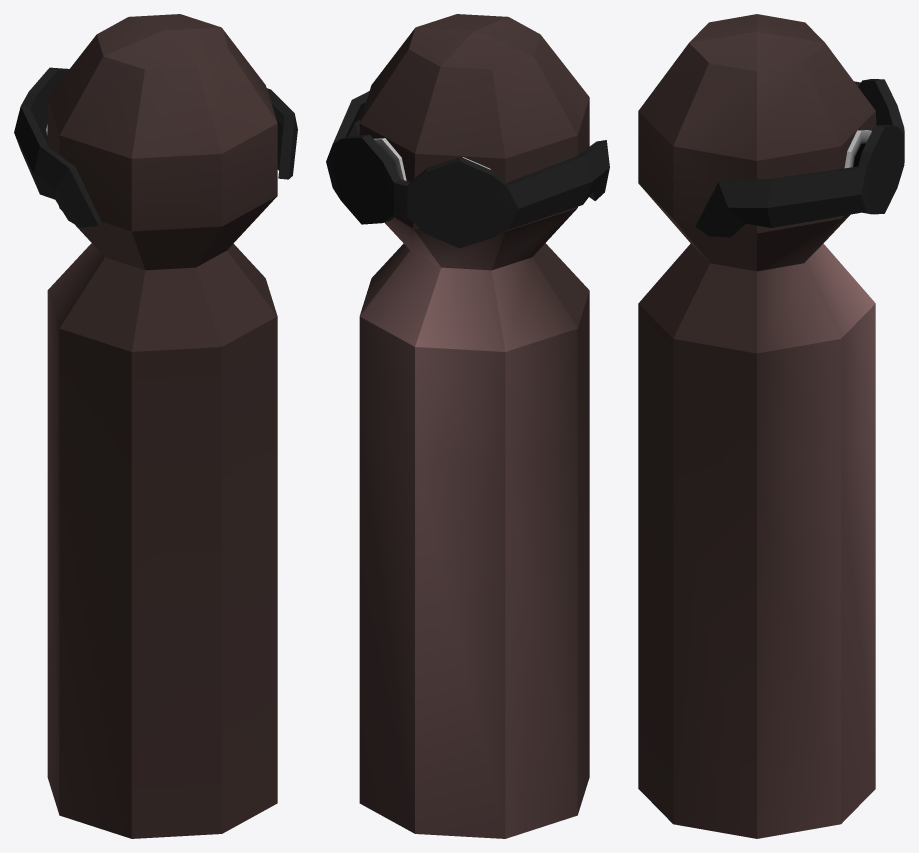
Rendered from mole.fbx.
The picture shows the model from 3 angles, left to right: view 1: azimuth 30°, elevation 25°; view 2: azimuth 150°, elevation 25°; view 3: azimuth 270°, elevation 25°; orthographic projection.
Visible parts, largest first — view 1: mole; view 2: mole; view 3: mole.
Part boxes in pixels (x1,y1,x2,y2): mole: (14, 14, 297, 838); mole: (326, 14, 609, 838); mole: (638, 14, 904, 838).
Size of the model in its own units: 59.13 by 173 by 55.17.
